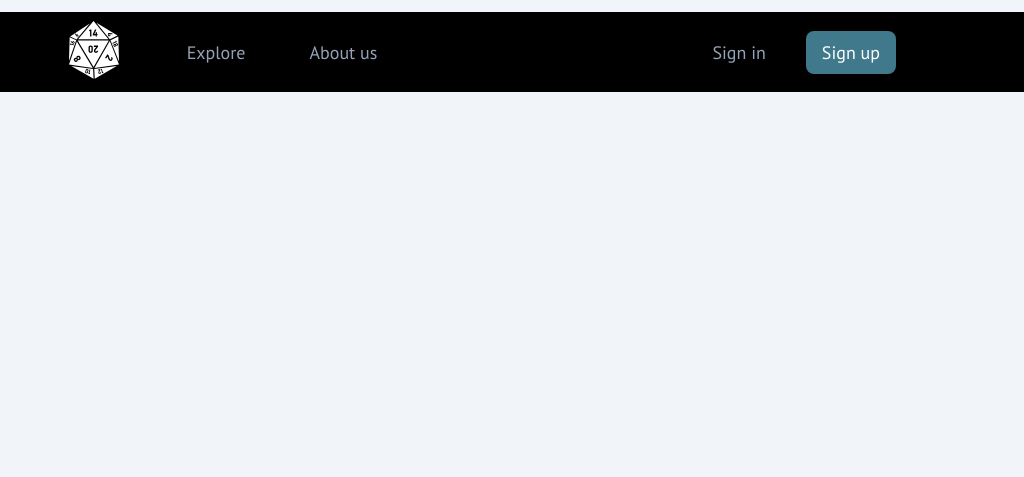
Test case: Header › when user clicks in explore tab › should render option stories online when clicking explore tab
Click the link "Explore": (216, 52) top-left (187, 38), bottom-right (246, 66)
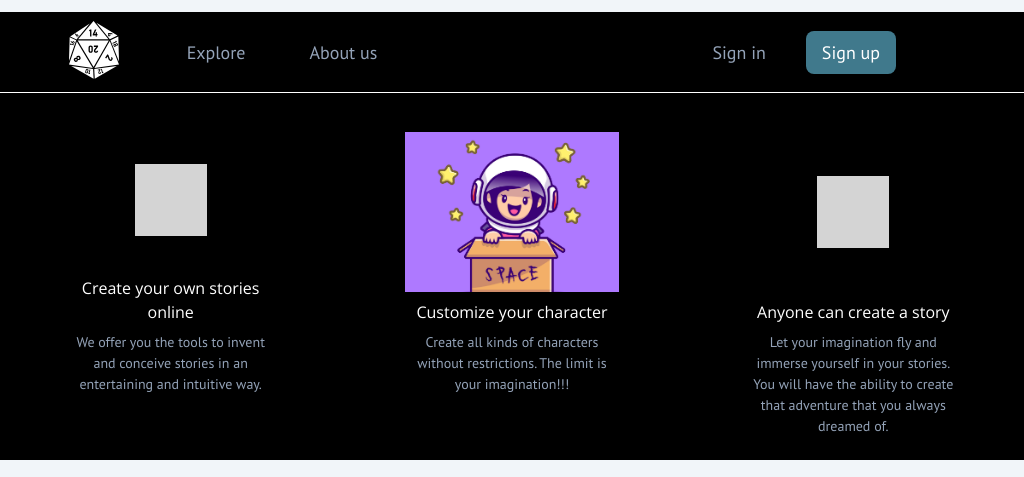
Now the heading "Create your own stories online" is shown, box top-left (82, 277), bottom-right (259, 323)
